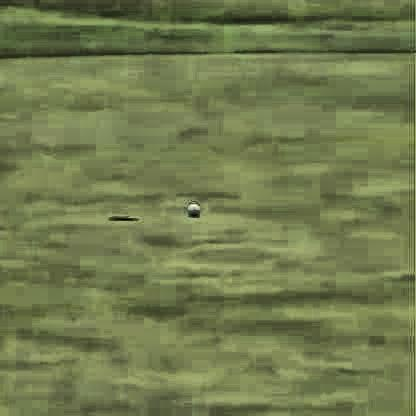golfball: (184, 200, 197, 213)
